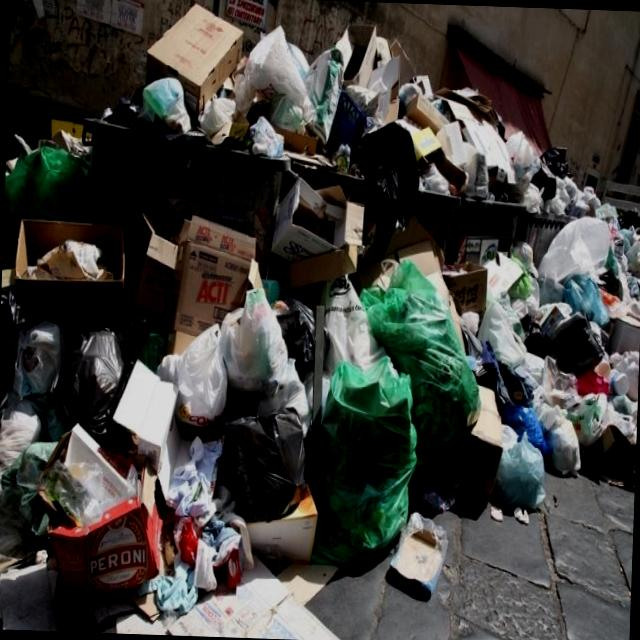garbage: (0, 0, 638, 633)
